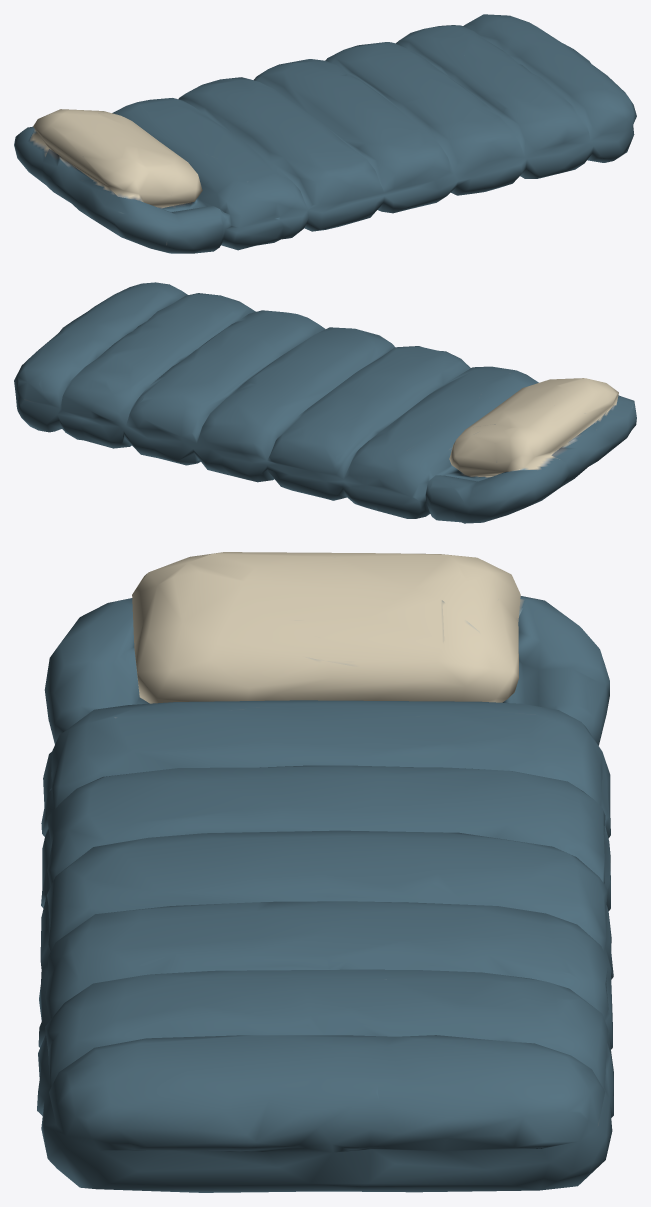
Rendered from f-bedroll.glb.
The picture shows the model from 3 angles, top to bottom: view 1: azimuth 30°, elevation 25°; view 2: azimuth 150°, elevation 25°; view 3: azimuth 270°, elevation 25°; orthographic projection. The views are drawn at different scales.
Parts seen in each view (by area): view 1: tripo_node_d3708dfa-0be4-4423-836b-ef26a27cabe5; view 2: tripo_node_d3708dfa-0be4-4423-836b-ef26a27cabe5; view 3: tripo_node_d3708dfa-0be4-4423-836b-ef26a27cabe5.
Boxes of the visible parts, x1,y1,x2,y2 form: tripo_node_d3708dfa-0be4-4423-836b-ef26a27cabe5: (14,14,636,253); tripo_node_d3708dfa-0be4-4423-836b-ef26a27cabe5: (14,282,636,523); tripo_node_d3708dfa-0be4-4423-836b-ef26a27cabe5: (37,552,613,1192).
Size of the model in its own units: 1 by 0.1631 by 0.4718.
Materials: 1 (1 with a texture image).
